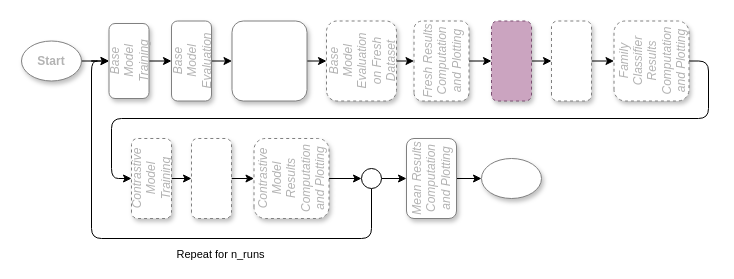
The diagram is 734 pixels wide and 279 high, and some of its shapes have lost their labels. The shapes that lost their labels are listed below. From the top down, each one's centre as x and y in pixels, then its label:
At (270,62): "Base Model Results Computation and Plotting".
At (512,62): "Family Classifier Training".
At (572,62): "Family Classifier Evaluation".
At (212,179): "Contrastive Model Evaluation".
At (512,180): "End".
